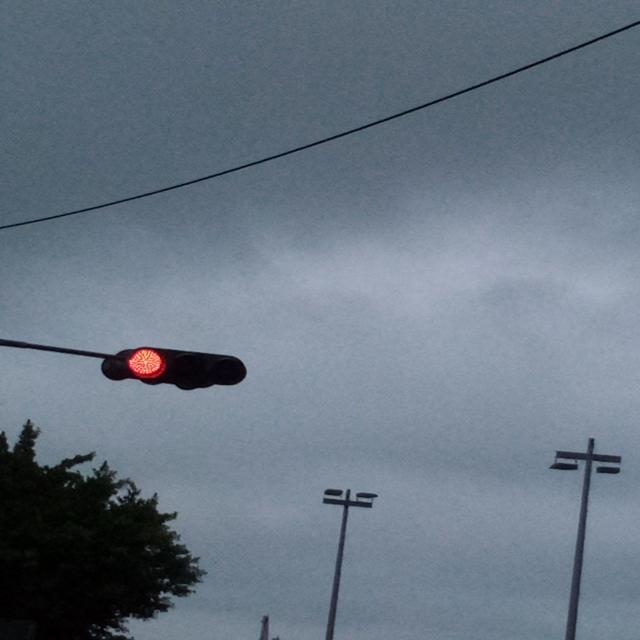red light: (100, 348, 250, 392)
